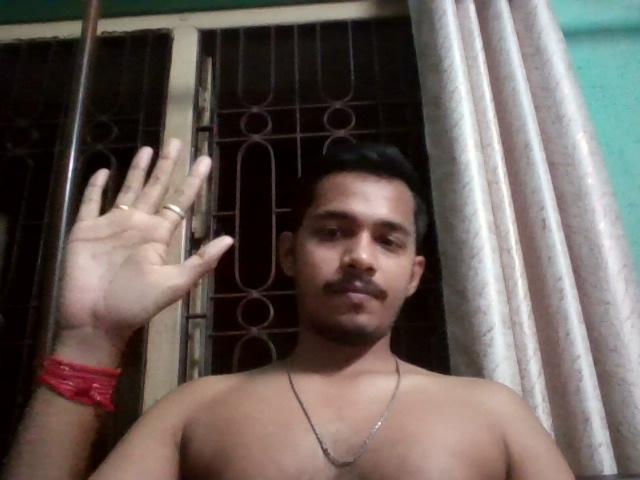Hello: (31, 113, 248, 351)
